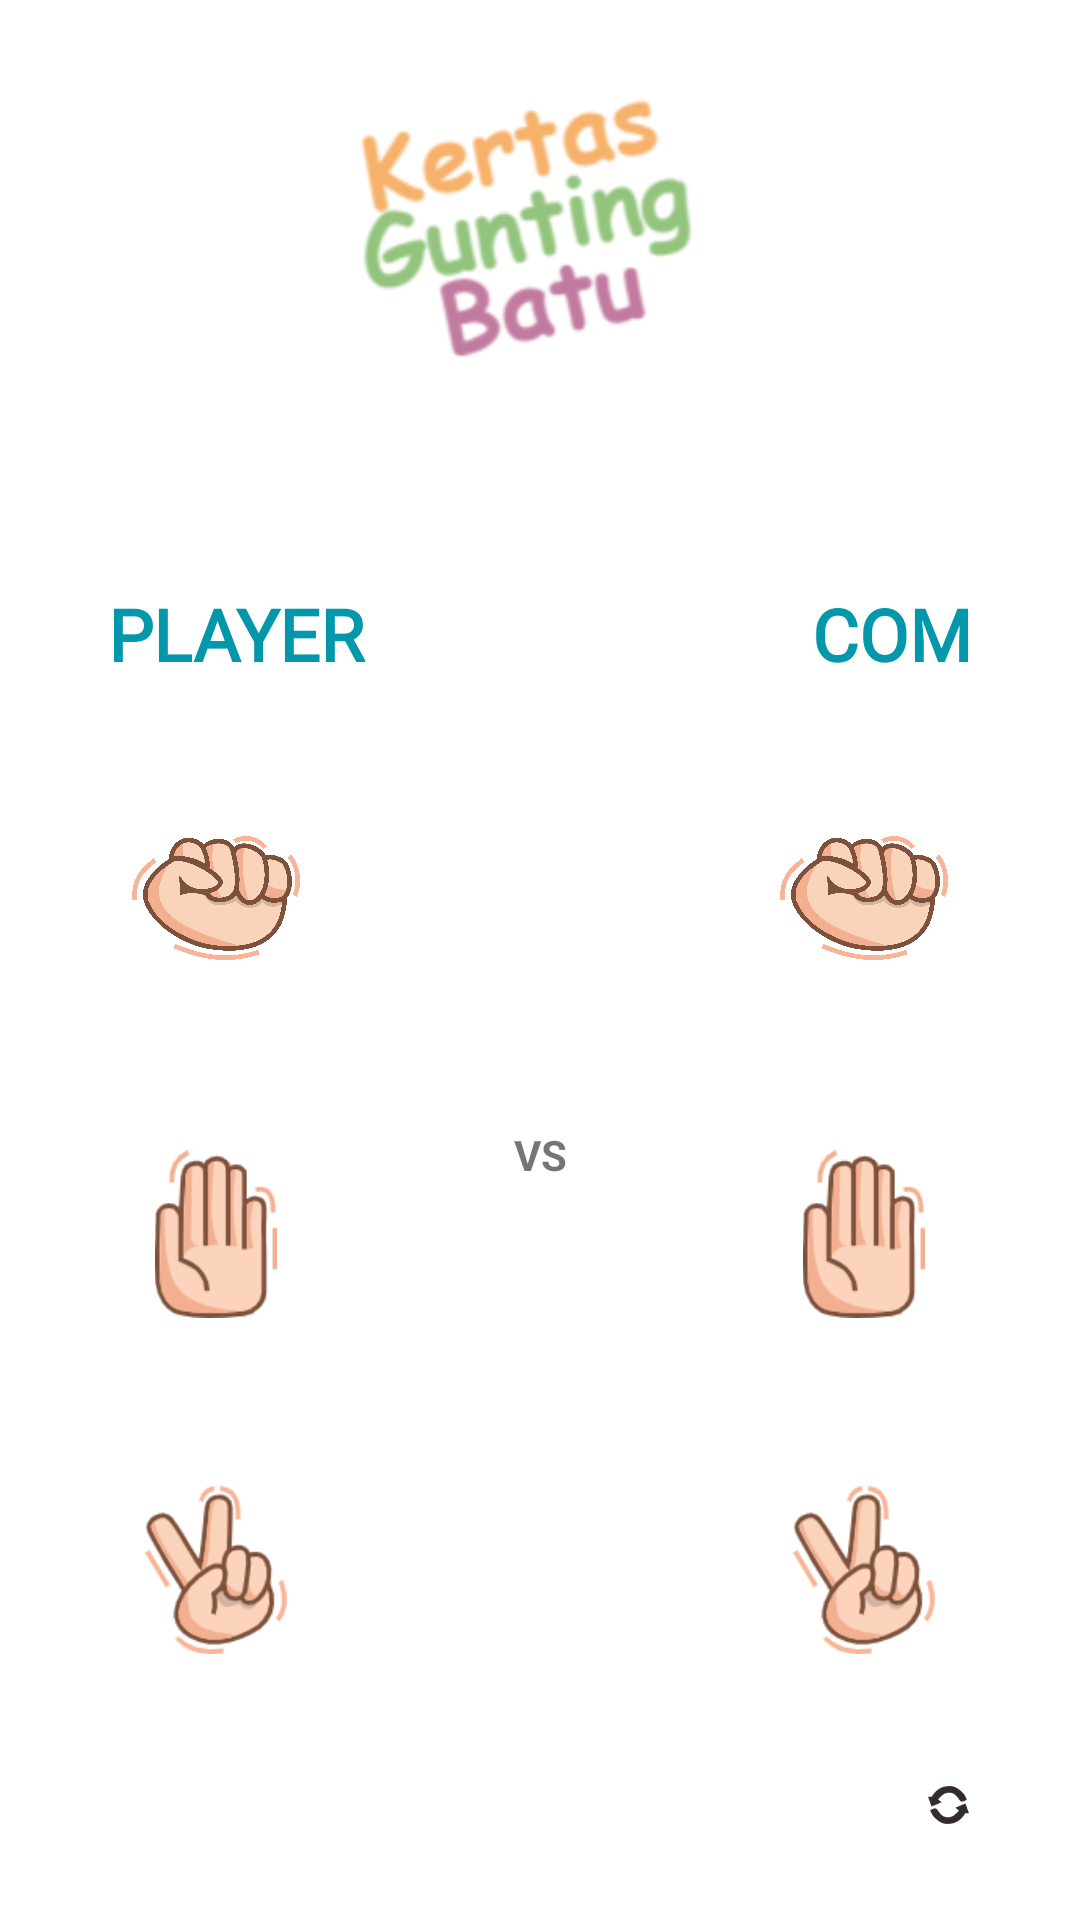

Icon click points for this 1080px×1920px phone screenshot, format (x,y):
Batu: (216,898), (864,898)
Gunting: (216,1570), (864,1570)
Kertas: (216,1234), (864,1234)
refresh: (948,1805)
